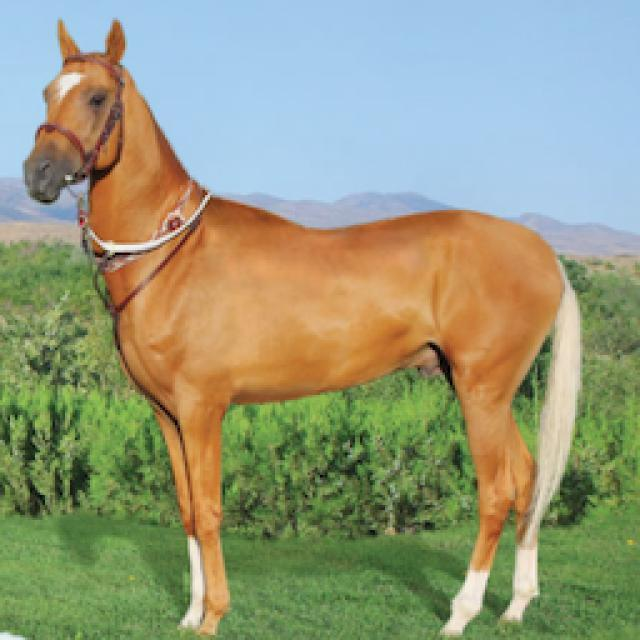Horse: (18, 12, 592, 638)
